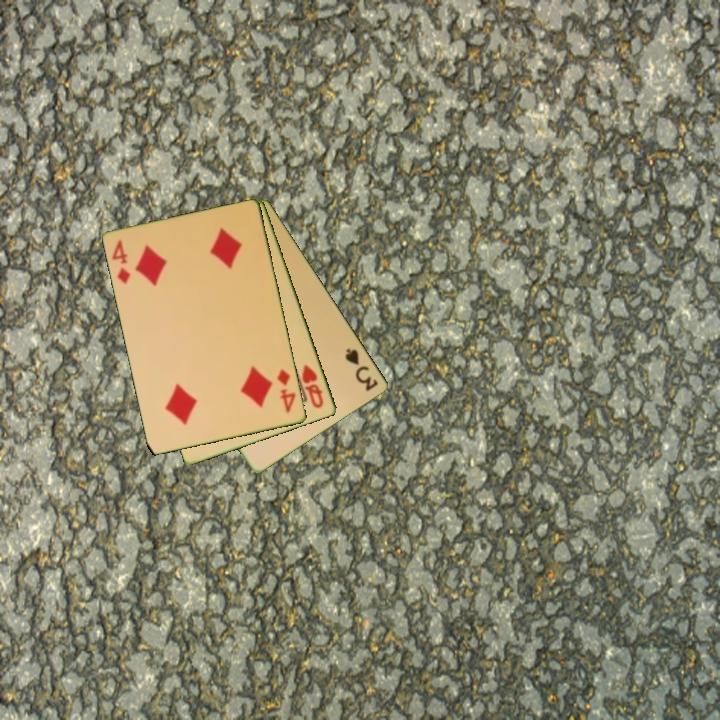3s: (342, 345, 381, 394)
4d: (274, 365, 299, 416), (109, 236, 134, 287)
Qh: (299, 361, 327, 411)
